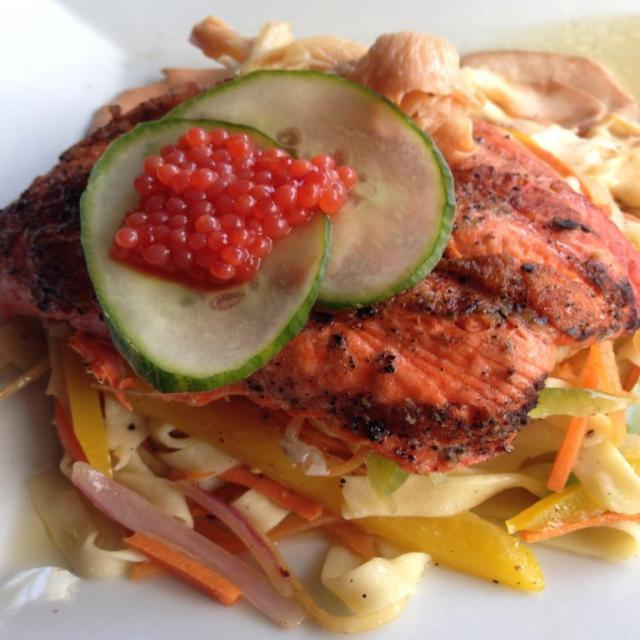Zucchini: (75, 110, 333, 388), (228, 52, 464, 342)
